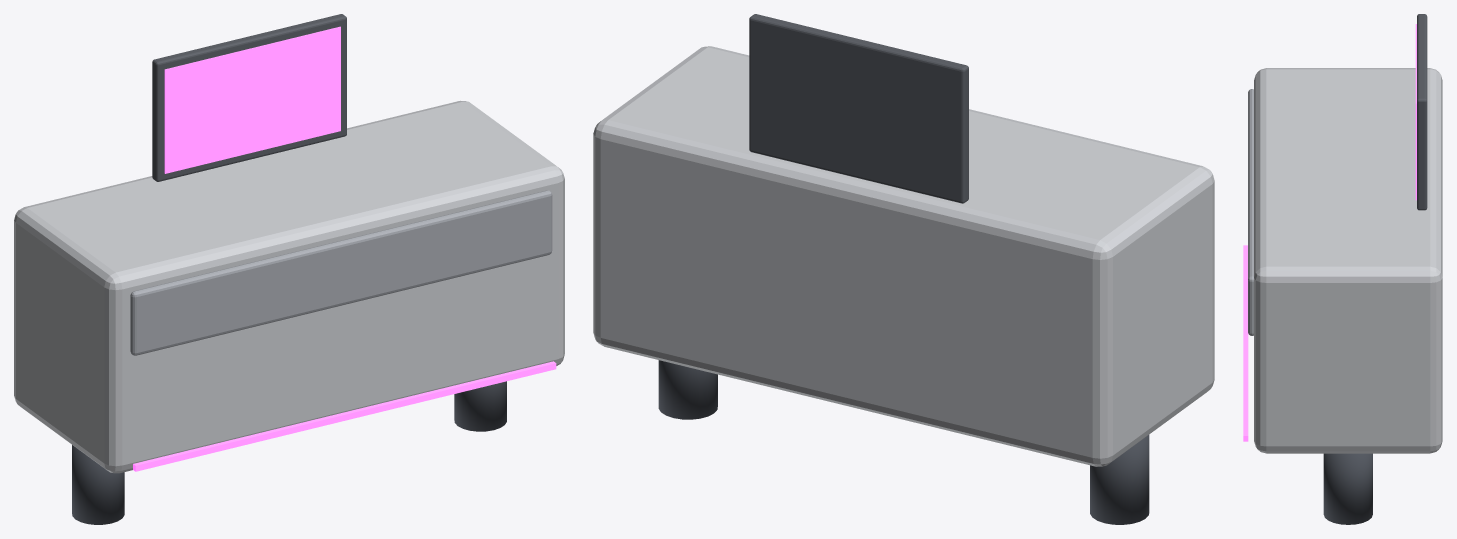
Rendered from dresser_console_chest.glb.
3 views of the same model, side by side, from view 1: azimuth 30°, elevation 25°; view 2: azimuth 150°, elevation 25°; view 3: azimuth 270°, elevation 25° (orthographic). The views are drawn at different scales.
Parts seen in each view (by area): view 1: GD_dresser_console_chest__m0, GD_dresser_console_chest__m2, GD_dresser_console_chest__m4, GD_dresser_console_chest__m3, GD_dresser_console_chest__m1, GD_dresser_console_chest__m5; view 2: GD_dresser_console_chest__m0, GD_dresser_console_chest__m3, GD_dresser_console_chest__m1; view 3: GD_dresser_console_chest__m0, GD_dresser_console_chest__m1, GD_dresser_console_chest__m3, GD_dresser_console_chest__m2, GD_dresser_console_chest__m5, GD_dresser_console_chest__m4.
Boxes of the visible parts, box(x1,y1,x2,y2) form: GD_dresser_console_chest__m0: box(14, 100, 564, 473); GD_dresser_console_chest__m2: box(130, 190, 552, 355); GD_dresser_console_chest__m4: box(164, 26, 340, 173); GD_dresser_console_chest__m3: box(152, 14, 346, 181); GD_dresser_console_chest__m1: box(72, 381, 506, 524); GD_dresser_console_chest__m5: box(133, 361, 556, 471); GD_dresser_console_chest__m0: box(593, 46, 1214, 466); GD_dresser_console_chest__m3: box(749, 14, 968, 203); GD_dresser_console_chest__m1: box(658, 360, 1149, 524); GD_dresser_console_chest__m0: box(1254, 68, 1442, 453); GD_dresser_console_chest__m1: box(1323, 453, 1372, 524); GD_dresser_console_chest__m3: box(1417, 14, 1427, 210); GD_dresser_console_chest__m2: box(1248, 89, 1253, 335); GD_dresser_console_chest__m5: box(1243, 245, 1248, 441); GD_dresser_console_chest__m4: box(1415, 24, 1416, 200).
Size of the model in its own units: 1.2 by 1 by 0.486.
